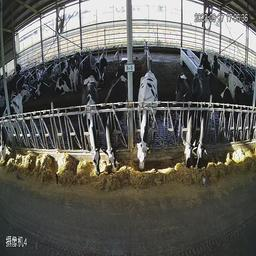cow: (102, 75, 129, 173), (81, 75, 105, 174), (136, 71, 159, 172), (201, 70, 237, 134), (175, 72, 195, 168), (190, 72, 208, 172), (196, 52, 226, 92), (87, 57, 109, 90), (67, 51, 84, 93), (55, 65, 72, 100), (34, 69, 52, 100), (19, 72, 34, 103)
